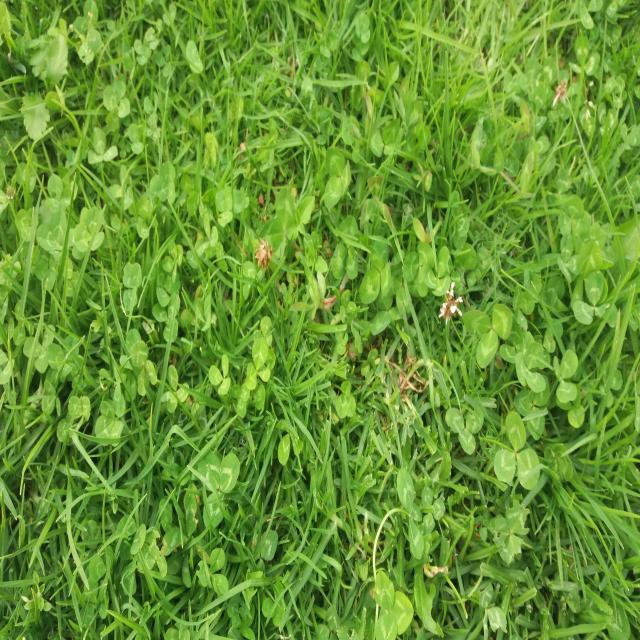Four Leaf Clover: (162, 240, 183, 283)
